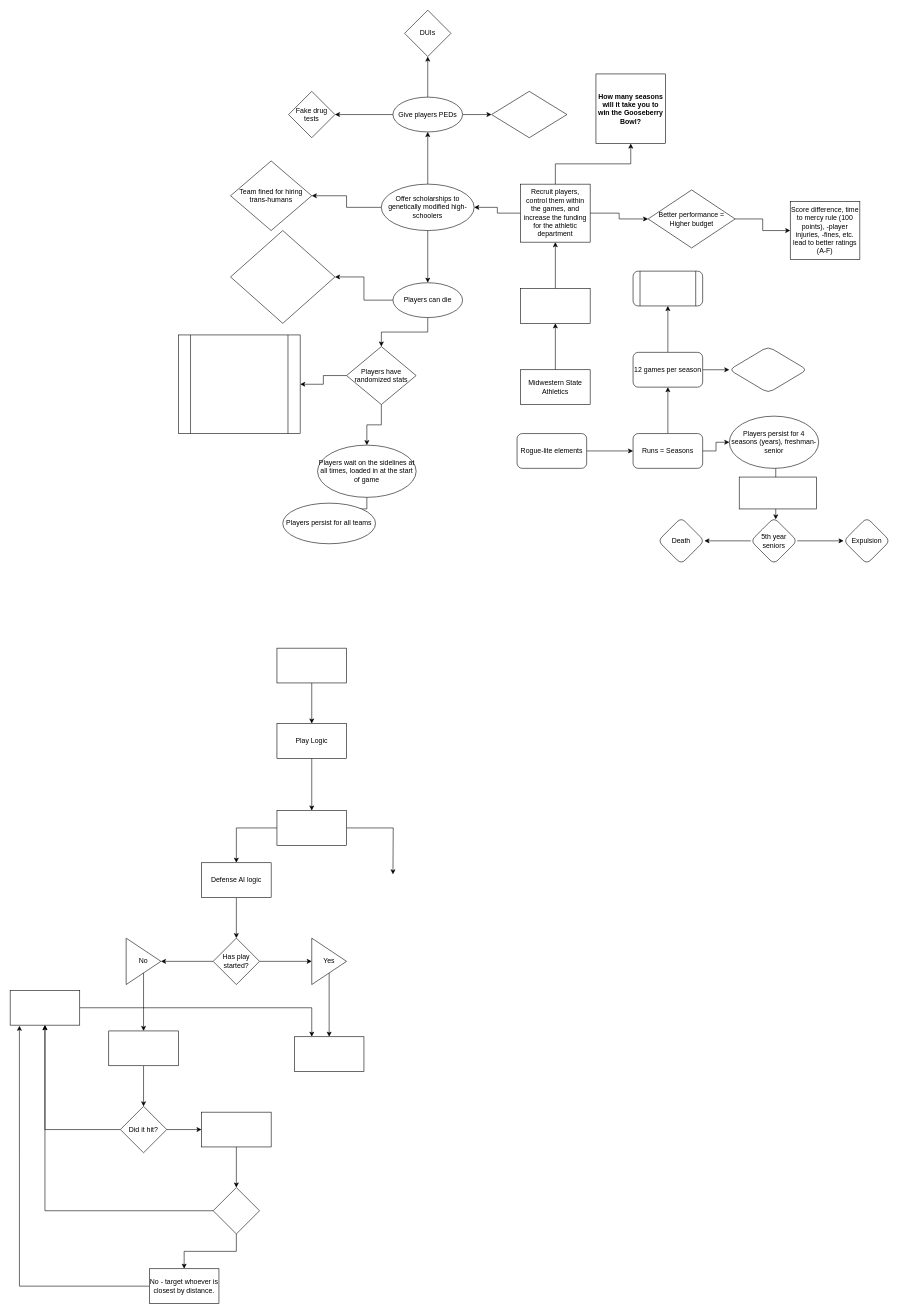
The diagram is 900 pixels wide and 1314 high, and some of its shapes have lost their labels. Here are the shapes that lost their labels. From the top down, the box of each, then its label:
(491, 91, 567, 138): Arrest/Expulsion
(230, 230, 335, 323): Tough QB at RSU? Accidentally concuss him during a game!
(632, 271, 703, 306): Final Game Ultra Bowl
(520, 288, 590, 323): You are the coach of a down-trodden Division 4 football team
(178, 334, 300, 434): Speed Height Weight(mass) Throwing accuracy Strength Endurance
(729, 346, 807, 393): Must win all 12 games
(739, 476, 816, 509): other way players can leave early / stay longer...
(276, 648, 347, 683): Game Logic
(276, 810, 347, 845): Defense and Offense move to starting pos
(10, 990, 80, 1025): Yes - set that as my target
(108, 1030, 178, 1066): Cast a ray straight forward
(294, 1036, 364, 1072): Move towards my target, attempting to push them back
(201, 1112, 271, 1147): No - cast two more rays at 45 degree angles.
(213, 1187, 260, 1234): Did that hit?
